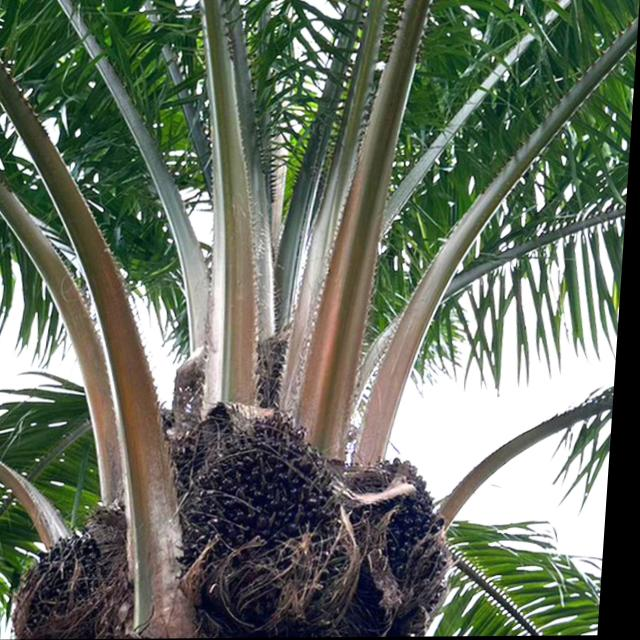almost: (172, 404, 368, 629)
